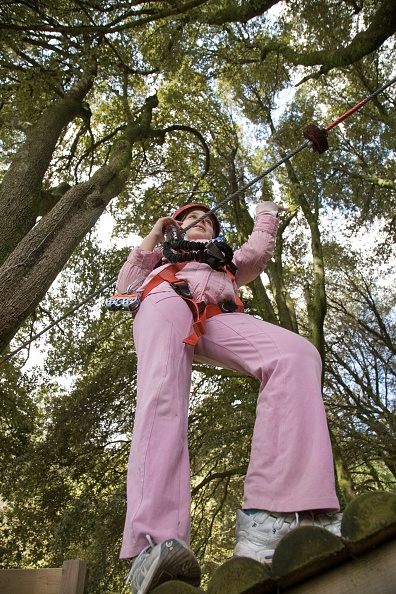em pe: (93, 140, 311, 580)
